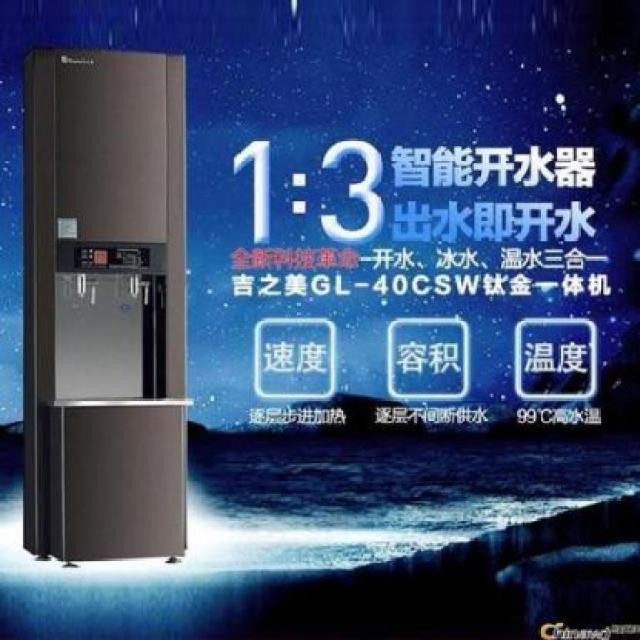cooler: (18, 48, 191, 568)
